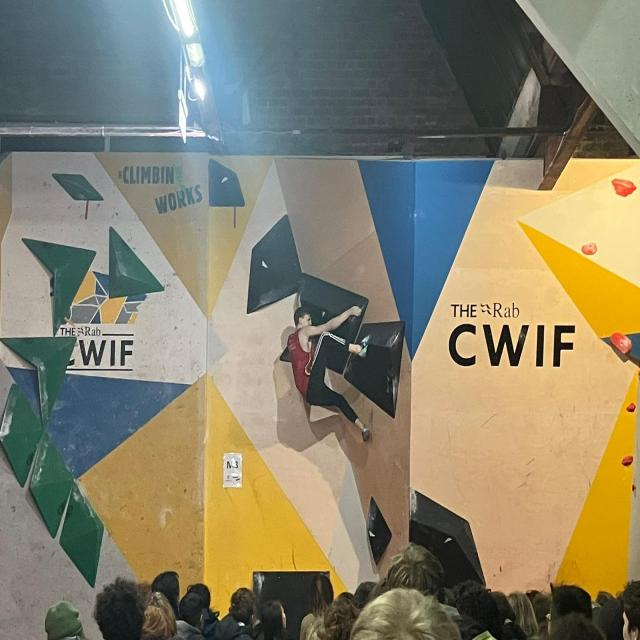Sloper: (19, 228, 96, 334), (293, 269, 374, 368), (0, 332, 84, 422), (246, 208, 309, 315), (348, 318, 409, 413), (58, 472, 105, 593), (104, 224, 169, 306), (0, 381, 44, 487), (29, 433, 74, 533), (204, 154, 245, 212), (361, 496, 394, 559)
